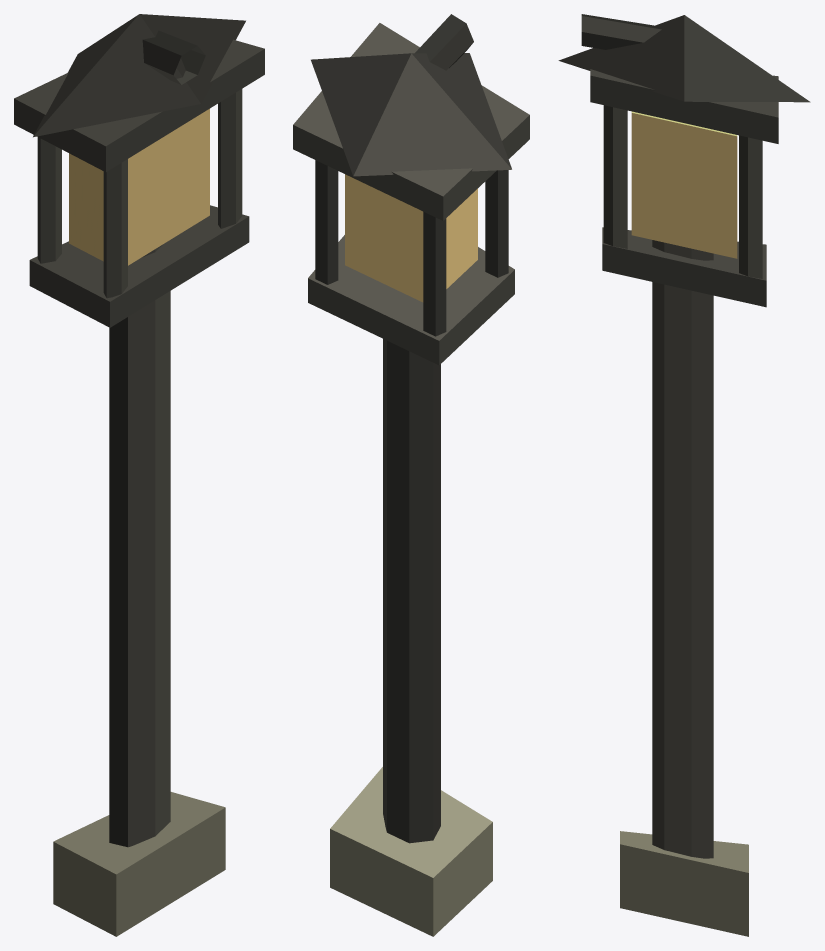
3 renders of one model, left to right at view 1: azimuth 30°, elevation 25°; view 2: azimuth 150°, elevation 25°; view 3: azimuth 270°, elevation 25°, orthographic. The views are drawn at different scales.
Visible parts, largest first — view 1: 577505a3588c603247dfd20d7960194bc90e41806dc8fb36ff447d3e14db; view 2: 577505a3588c603247dfd20d7960194bc90e41806dc8fb36ff447d3e14db; view 3: 577505a3588c603247dfd20d7960194bc90e41806dc8fb36ff447d3e14db.
Part boxes in pixels (x1=…): 577505a3588c603247dfd20d7960194bc90e41806dc8fb36ff447d3e14db: x1=14, y1=14, x2=264, y2=936; 577505a3588c603247dfd20d7960194bc90e41806dc8fb36ff447d3e14db: x1=293, y1=14, x2=529, y2=936; 577505a3588c603247dfd20d7960194bc90e41806dc8fb36ff447d3e14db: x1=558, y1=14, x2=810, y2=936.
Size of the model in its own units: 0.86 by 3.47 by 0.86.
Materials: 2 (1 with a texture image).
